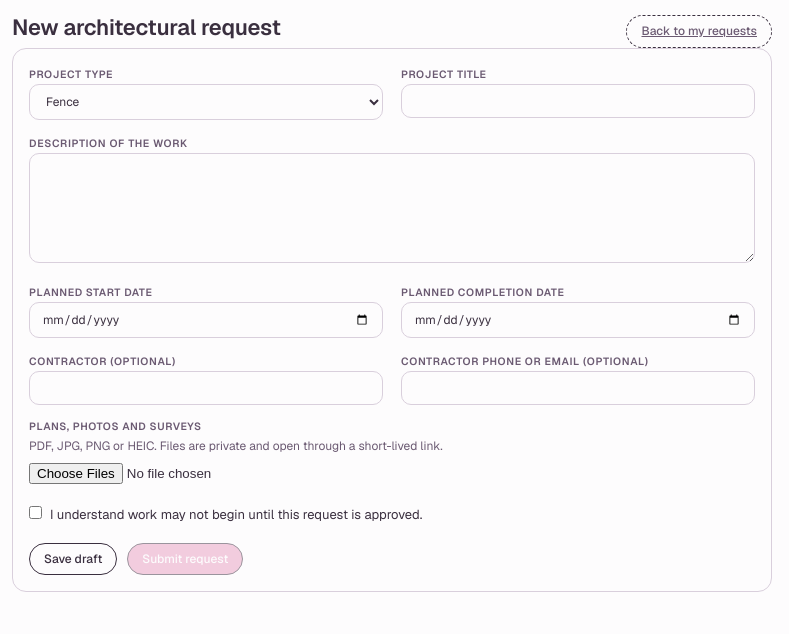
Test: RequestFormComponent (029 US1/US5/US6) › shows the date-order error and blocks Submit
Type "Fence replacement" into the field labelled "Project title".
click(578, 101); type("Fence replacement")  # box [401, 84, 755, 118]
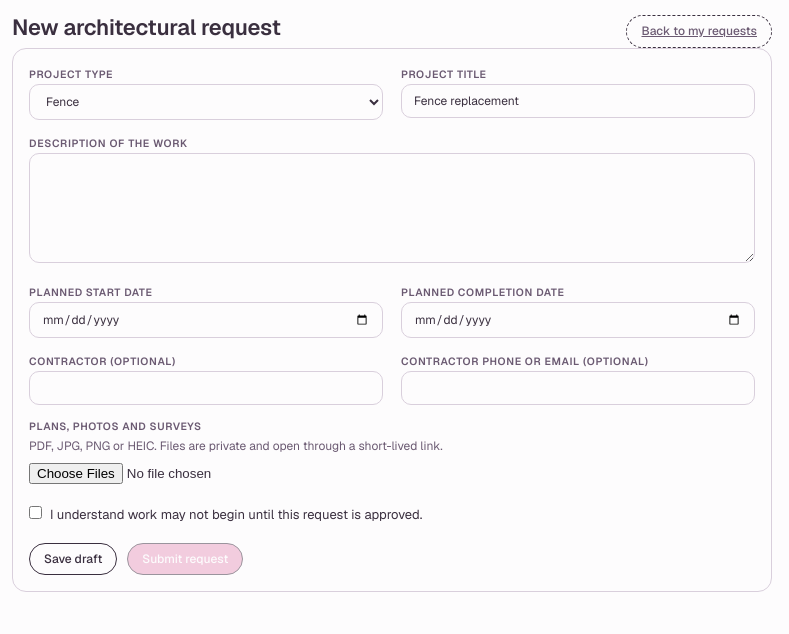
Type "Rear fence" into the text box labelled "Description of the work".
click(392, 208); type("Rear fence")  # box [29, 153, 755, 263]
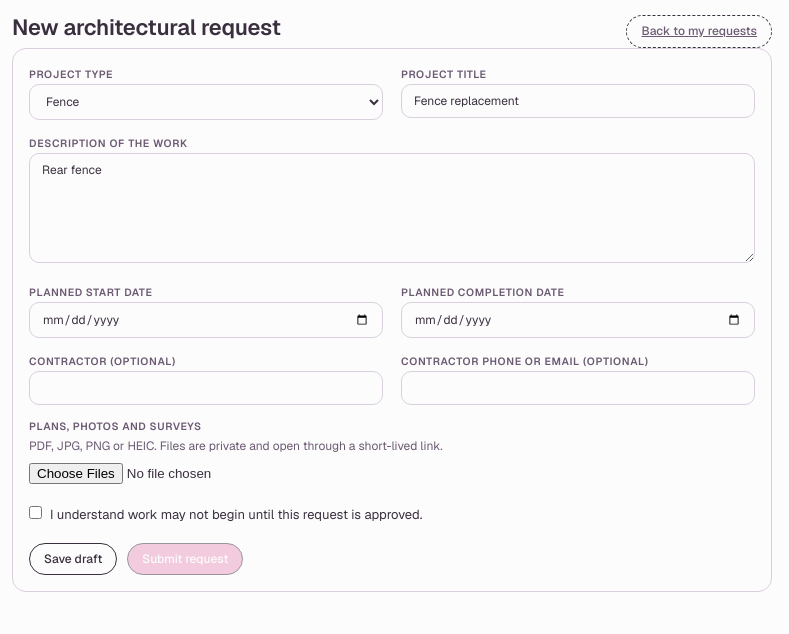
Type "2026-07-01" into the date field labelled "Planned start date".
click(206, 320); type("2026-07-01")  # box [29, 302, 383, 338]
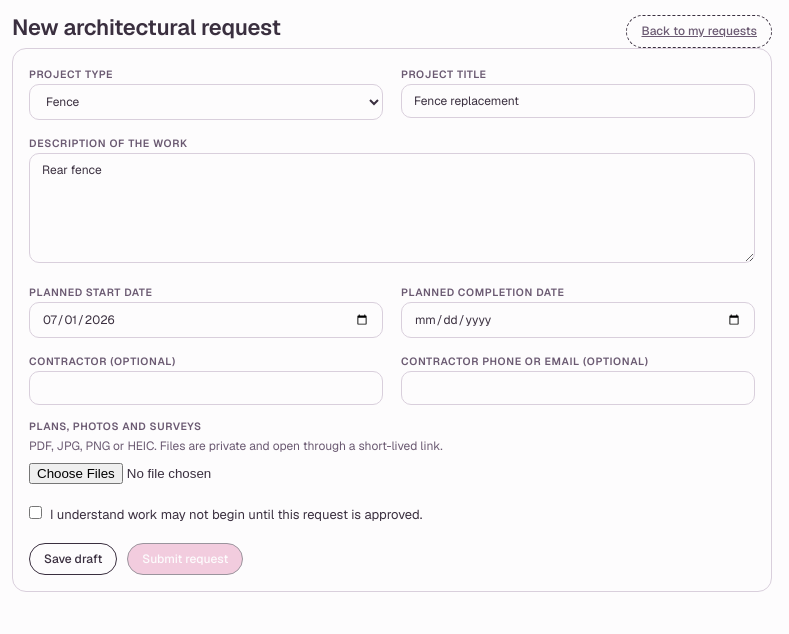
Type "2026-07-20" into the date field labelled "Planned completion date".
click(578, 320); type("2026-07-20")  # box [401, 302, 755, 338]
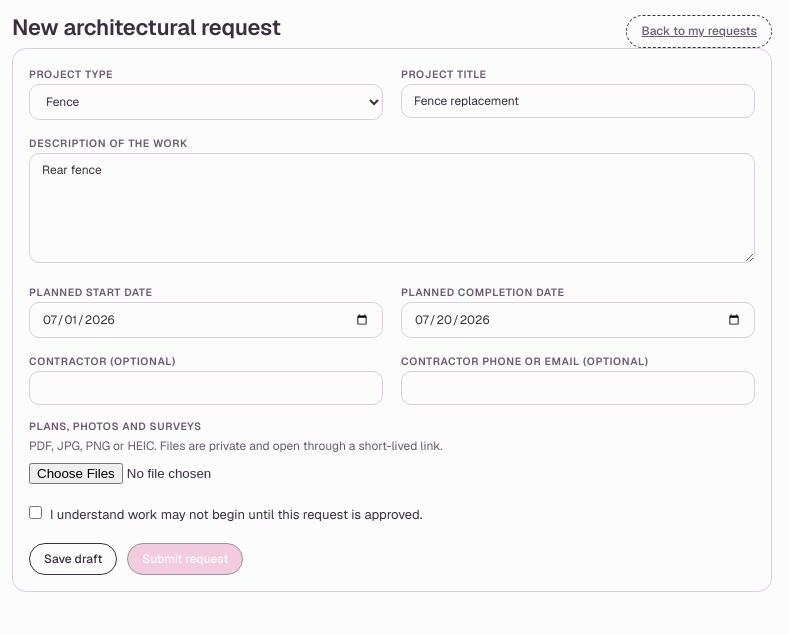
Click the checkbox labelled "I understand work may not begin until this request is approved.".
click(36, 513)  # box [29, 506, 42, 519]
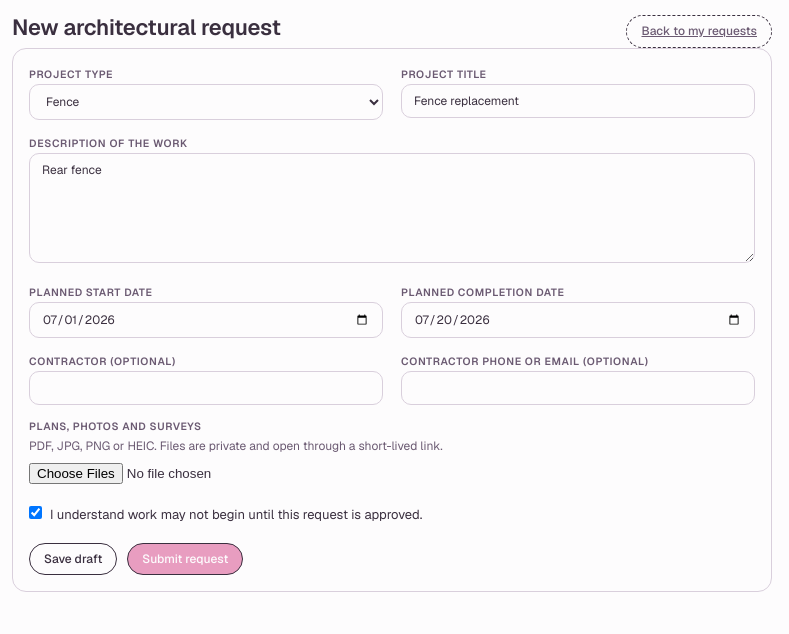
Type "2026-06-01" into the date field labelled "Planned completion date".
click(578, 320); type("2026-06-01")  # box [401, 302, 755, 338]
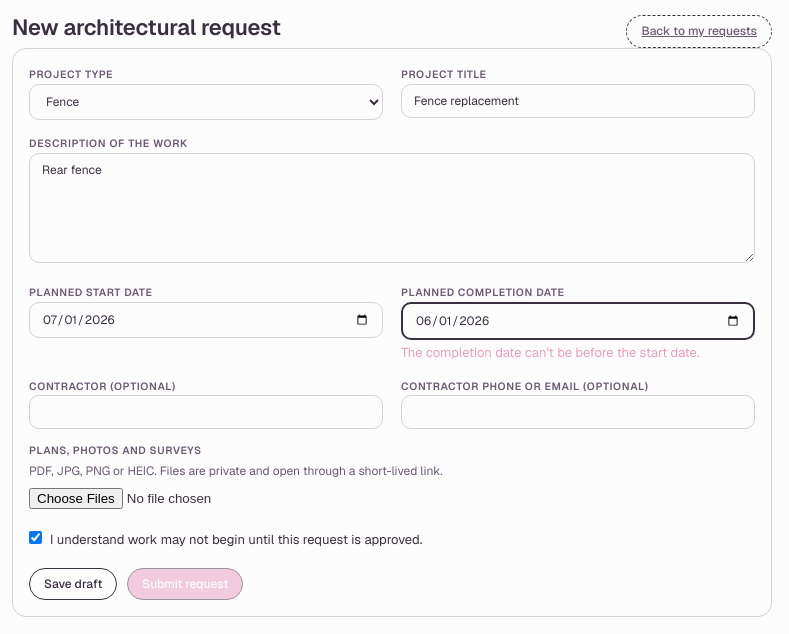
Check: the button "Submit request" is disabled, box [127, 568, 243, 600]
